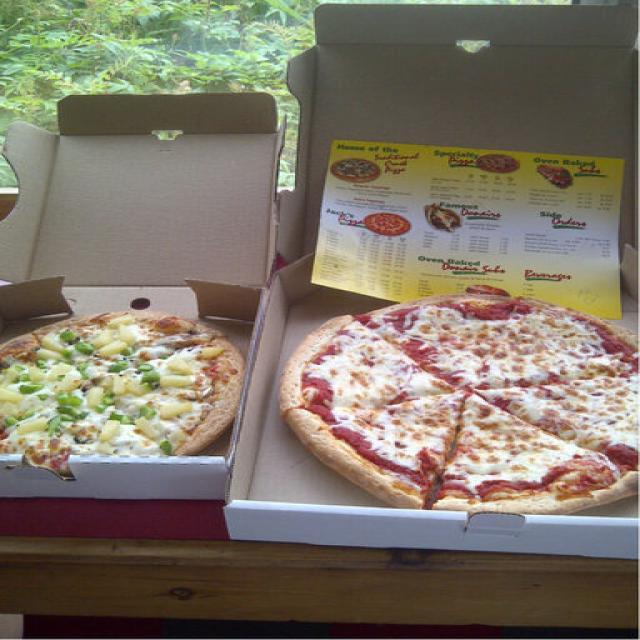Cheese: (466, 403, 544, 471), (341, 405, 452, 448), (335, 345, 418, 398), (506, 384, 622, 420), (513, 334, 587, 376), (436, 317, 484, 374)
Green Pepper: (56, 406, 85, 424), (56, 395, 86, 407), (107, 412, 135, 424), (74, 341, 95, 356), (107, 360, 131, 373), (141, 371, 161, 384), (138, 361, 156, 374), (61, 330, 78, 343), (20, 384, 44, 393)
Pineapple: (132, 418, 165, 441), (159, 402, 194, 420), (95, 340, 128, 356), (104, 378, 133, 394), (17, 418, 45, 434), (168, 357, 194, 374), (58, 376, 81, 394), (0, 385, 23, 402), (101, 420, 120, 440), (161, 375, 192, 387), (0, 366, 18, 386), (38, 336, 66, 348), (88, 386, 103, 408), (90, 332, 114, 345), (118, 324, 136, 341), (36, 347, 65, 357), (28, 366, 45, 383), (110, 315, 135, 326), (200, 346, 224, 357), (53, 364, 73, 375)
Pizza: (277, 292, 640, 516), (0, 311, 245, 466)
